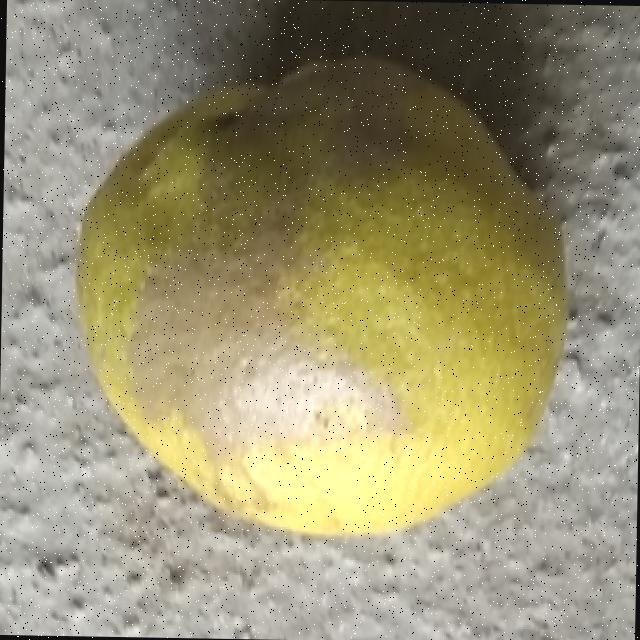overripe: (68, 46, 580, 546)
